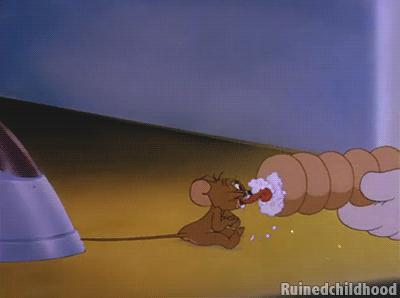jerry: (79, 169, 274, 250)
